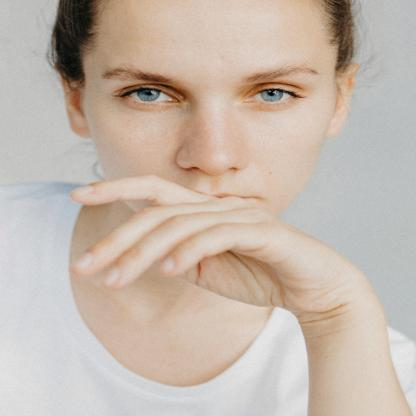Eye: (112, 83, 187, 114), (237, 81, 310, 111)
Nose: (176, 104, 251, 177)
